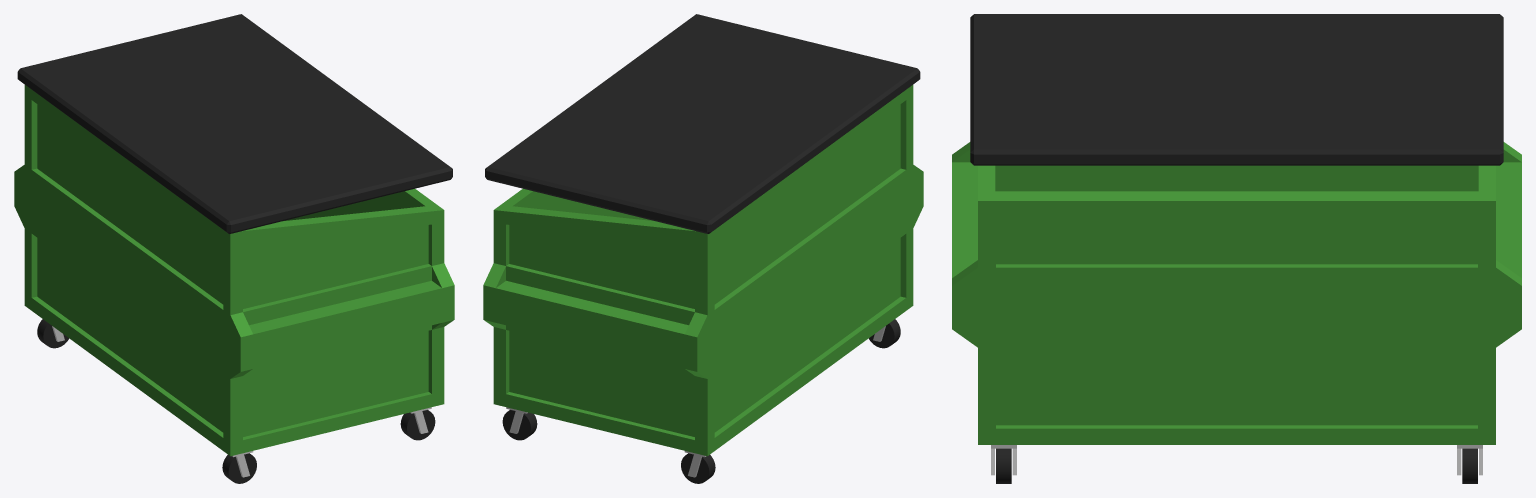
The model's file is GarbageContainer.fbx.
3 views of the same model, side by side, from view 1: azimuth 30°, elevation 25°; view 2: azimuth 150°, elevation 25°; view 3: azimuth 270°, elevation 25° (orthographic). The views are drawn at different scales.
Parts seen in each view (by area): view 1: Body, Lid, Wheel4, Wheel1, Wheel3; view 2: Body, Lid, Wheel3, Wheel2, Wheel4; view 3: Body, Lid, Wheel1, Wheel2.
Boxes of the visible parts, x1,y1,x2,y2 form: Body: (14, 85, 454, 456); Lid: (17, 14, 452, 233); Wheel4: (222, 451, 256, 483); Wheel1: (400, 407, 435, 440); Wheel3: (37, 319, 68, 348); Body: (483, 85, 923, 456); Lid: (485, 14, 920, 233); Wheel3: (681, 451, 715, 483); Wheel2: (502, 407, 537, 440); Wheel4: (869, 319, 900, 348); Body: (952, 142, 1521, 444); Lid: (970, 14, 1503, 165); Wheel1: (991, 445, 1016, 483); Wheel2: (1457, 445, 1482, 483).
Size of the model in its own units: 127 by 147 by 220.
